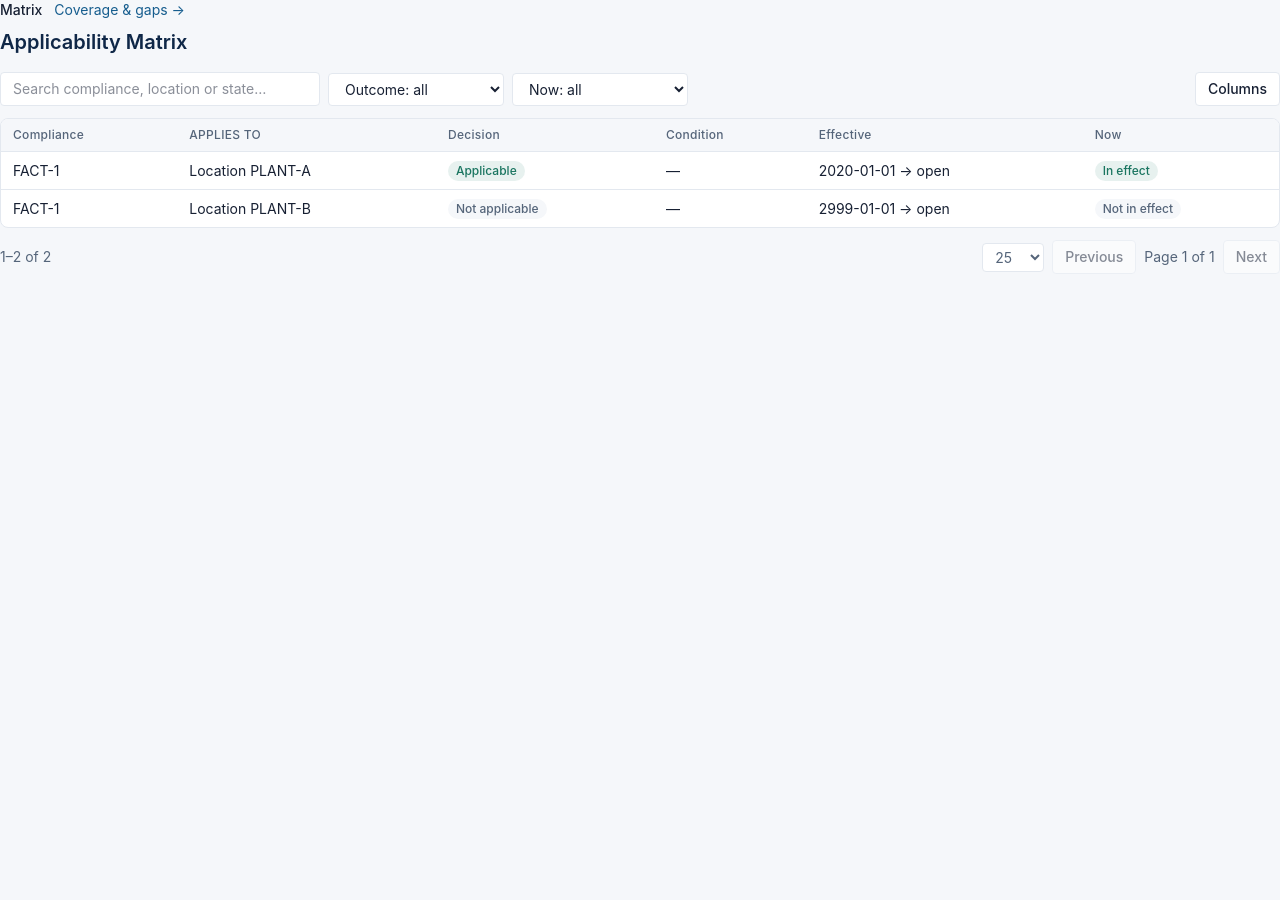
Applicability Matrix › read-only users cannot add, edit or replace
This screenshot has width=1280, height=900.
Click the text "FACT-1" next to "Location PLANT-A": (36, 170) [1, 152, 177, 190]
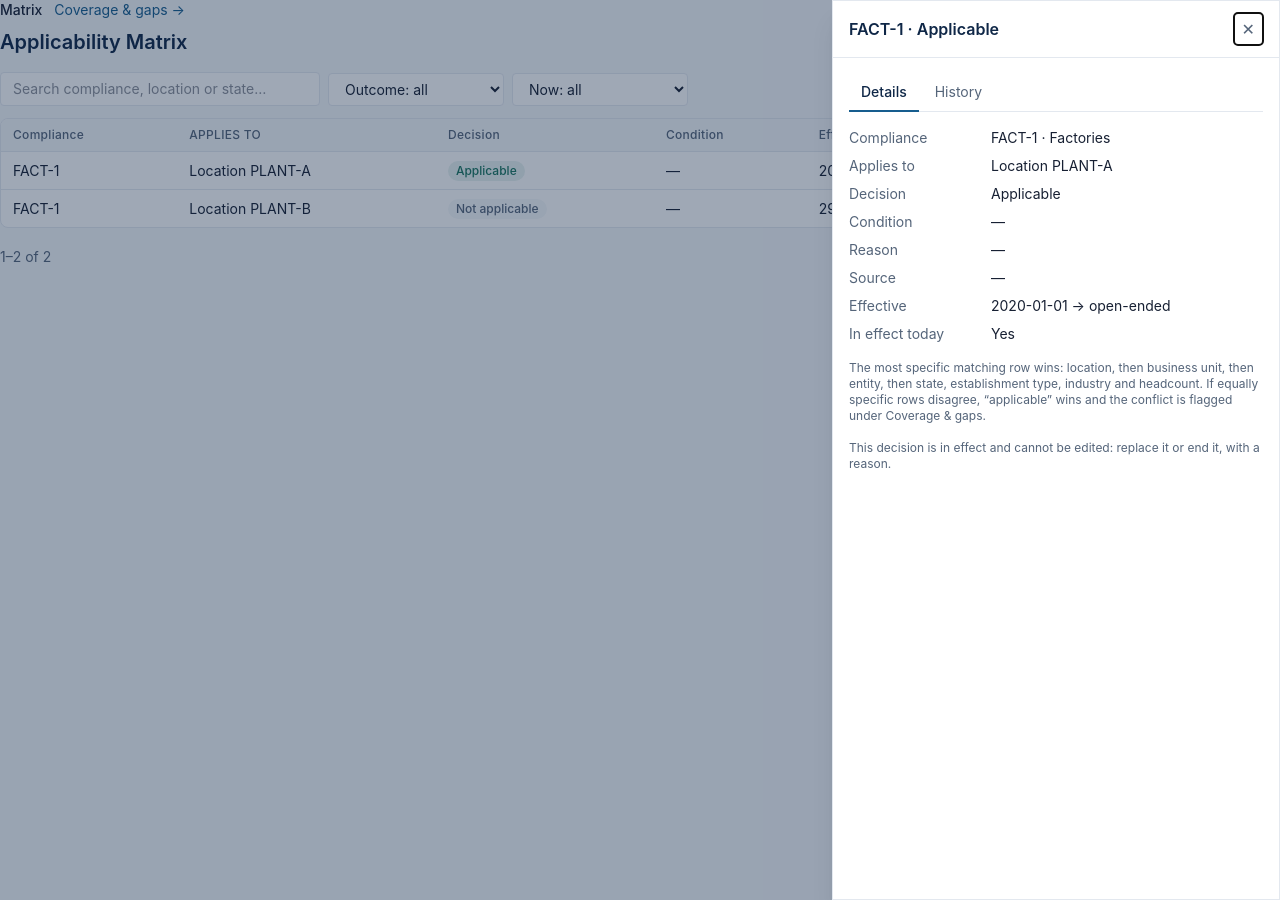
expect the text "in effect and cannot be edited" is shown: met, box [849, 440, 1260, 471]
